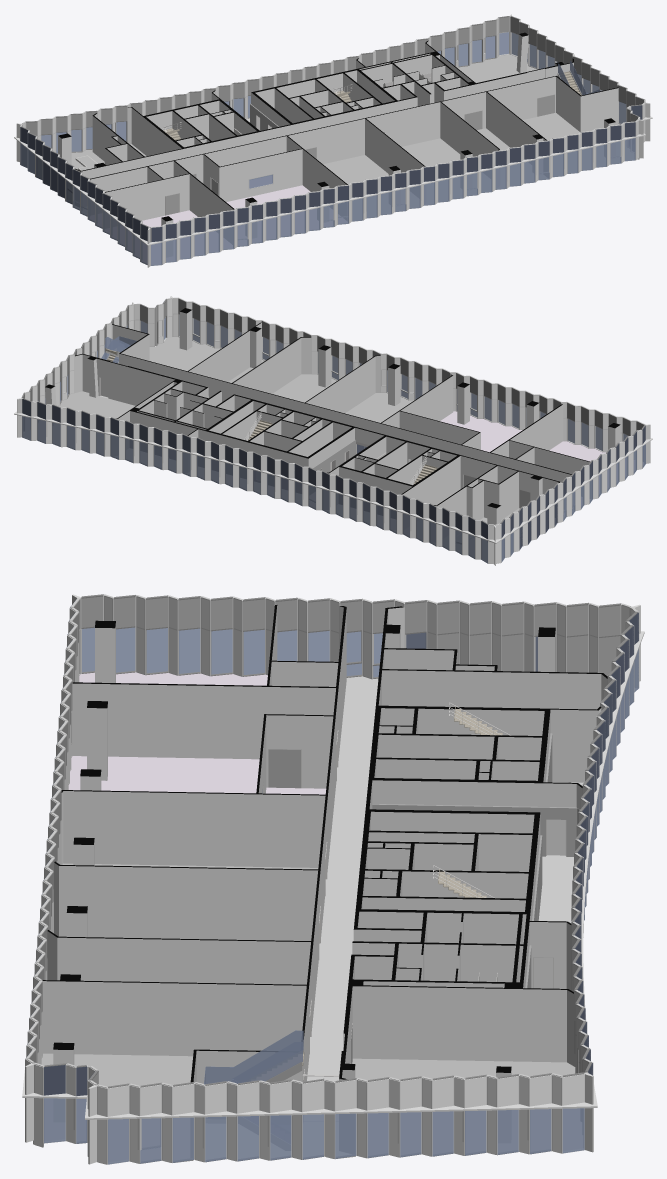
3 renders of one model, top to bottom at view 1: azimuth 30°, elevation 25°; view 2: azimuth 150°, elevation 25°; view 3: azimuth 270°, elevation 25°, orthographic. The views are drawn at different scales.
Visible parts, largest first — view 1: A5-12F_Wall, A5-12F_GlassFrame, A5-12F_Glass, A5-12F_Floor, A5-12F_Exterior, A5-12F_Pillar, A5-12F_Door, A5-12F_Stairs; view 2: A5-12F_Wall, A5-12F_GlassFrame, A5-12F_Glass, A5-12F_Floor, A5-12F_Pillar, A5-12F_Exterior, A5-12F_Wall2, A5-12F_Stairs, A5-12F_Door; view 3: A5-12F_Wall, A5-12F_GlassFrame, A5-12F_Floor, A5-12F_Glass, A5-12F_Pillar, A5-12F_Exterior, A5-12F_Stairs, A5-12F_Door, A5-12F_Wall2.
Part boxes in pixels (bbox=[...]): A5-12F_Wall: bbox=[75, 40, 618, 243]; A5-12F_GlassFrame: bbox=[20, 16, 645, 265]; A5-12F_Glass: bbox=[20, 32, 642, 265]; A5-12F_Floor: bbox=[37, 54, 633, 264]; A5-12F_Exterior: bbox=[14, 14, 652, 267]; A5-12F_Pillar: bbox=[58, 32, 615, 256]; A5-12F_Door: bbox=[165, 94, 555, 215]; A5-12F_Stairs: bbox=[163, 61, 600, 140]; A5-12F_Wall: bbox=[74, 322, 590, 541]; A5-12F_GlassFrame: bbox=[21, 297, 645, 563]; A5-12F_Glass: bbox=[22, 302, 645, 563]; A5-12F_Floor: bbox=[24, 337, 634, 560]; A5-12F_Pillar: bbox=[45, 308, 620, 524]; A5-12F_Exterior: bbox=[14, 296, 652, 565]; A5-12F_Wall2: bbox=[130, 440, 395, 518]; A5-12F_Stairs: bbox=[101, 336, 437, 484]; A5-12F_Door: bbox=[100, 377, 530, 507]; A5-12F_Wall: bbox=[42, 605, 607, 1157]; A5-12F_GlassFrame: bbox=[25, 594, 639, 1164]; A5-12F_Floor: bbox=[41, 672, 583, 1163]; A5-12F_Glass: bbox=[25, 599, 638, 1164]; A5-12F_Pillar: bbox=[53, 620, 555, 1142]; A5-12F_Exterior: bbox=[22, 594, 644, 1164]; A5-12F_Stairs: bbox=[204, 702, 510, 1150]; A5-12F_Door: bbox=[268, 730, 566, 1121]; A5-12F_Wall2: bbox=[372, 733, 579, 988].
Bounding box in the file's own units: 63.23 × 5.98 × 33.46.
